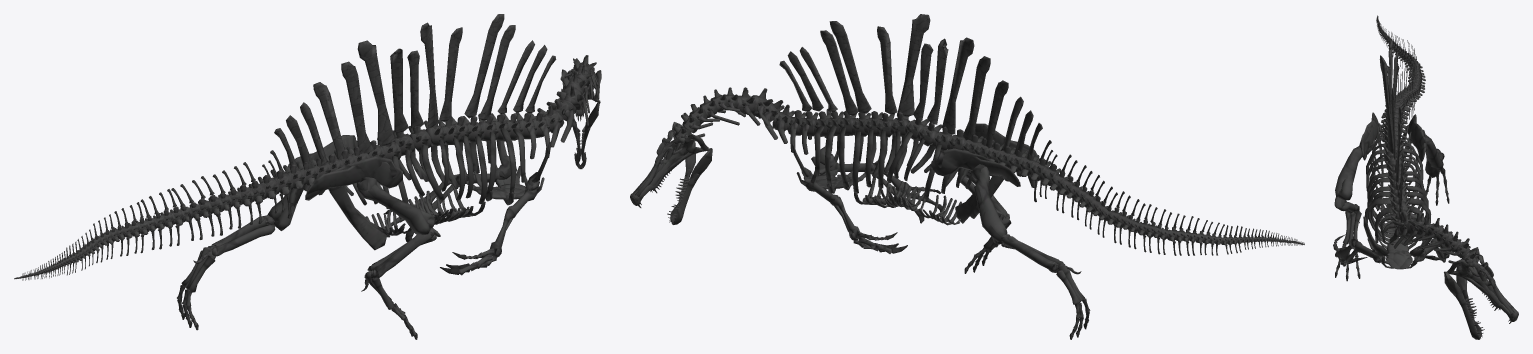
File: uggedla-skeleton.glb
The picture shows the model from 3 angles, left to right: view 1: azimuth 30°, elevation 25°; view 2: azimuth 150°, elevation 25°; view 3: azimuth 270°, elevation 25°; orthographic projection. The views are drawn at different scales.
Visible parts, largest first — view 1: Skeleton; view 2: Skeleton; view 3: Skeleton.
Part boxes in pixels (left/top/right/bottom): Skeleton: left=14, top=14, right=601, bottom=339; Skeleton: left=630, top=14, right=1304, bottom=339; Skeleton: left=1333, top=15, right=1518, bottom=339.
Bounding box in the file's own units: 7.2 × 3.05 × 2.15.
Materials: 2 (2 with a texture image).
